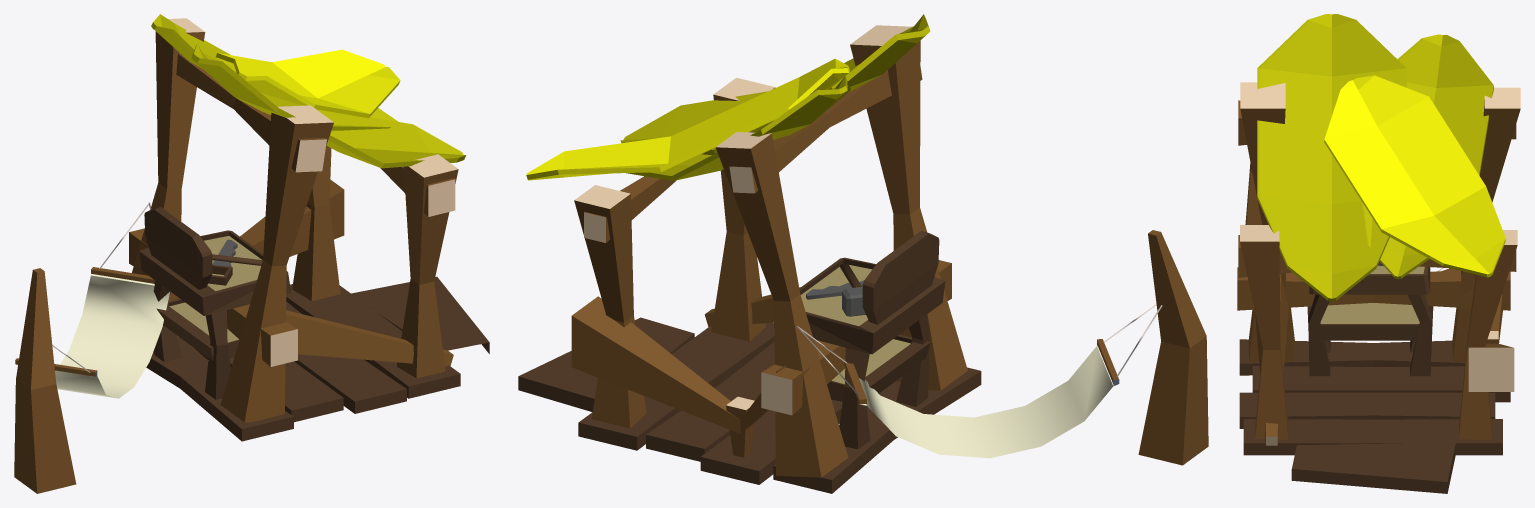
File: ouvrier.fbx
The picture shows the model from 3 angles, left to right: view 1: azimuth 30°, elevation 25°; view 2: azimuth 150°, elevation 25°; view 3: azimuth 270°, elevation 25°; orthographic projection. The views are drawn at different scales.
Parts seen in each view (by area): view 1: Cube; view 2: Cube; view 3: Cube.
Boxes of the visible parts, box(x1,y1,x2,y2) form: Cube: box(14, 14, 489, 493); Cube: box(518, 14, 1208, 493); Cube: box(1237, 14, 1520, 493).
Bounding box in the file's own units: 600 × 400 × 300.
